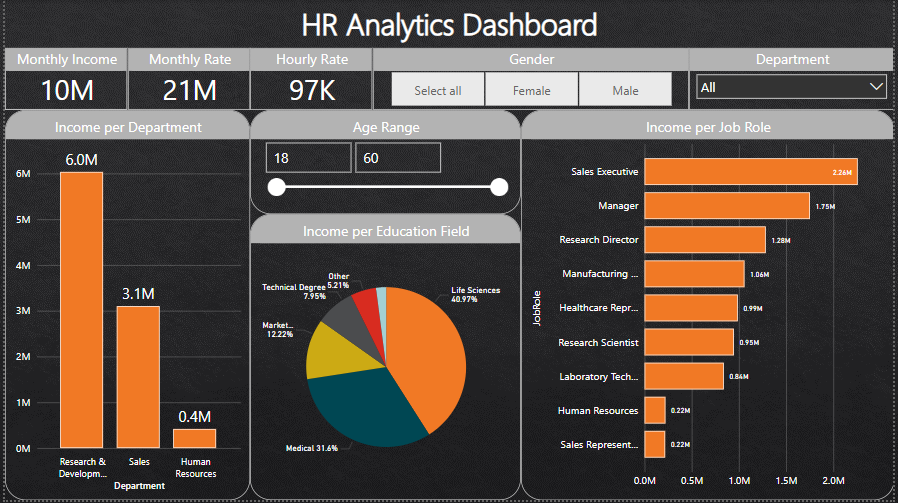

The dashboard page shown, as its layout file describes it:
{"tool":"powerbi","page":{"name":"HR Analytics Data","canvas":[1280,720],"ordinal":0},"visuals":[{"type":"textbox","box":[0,0,1280.8,69.6],"z":0},{"type":"card","title":"Monthly Income","fields":{"Values":["Sum(HR Analytics Data.MonthlyIncome)"]},"box":[0,69.6,176.5,89.1],"z":1000},{"type":"card","title":"Hourly Rate","fields":{"Values":["Sum(HR Analytics Data.HourlyRate)"]},"box":[353,69.6,176.5,89.1],"z":2000},{"type":"card","title":"Monthly Rate","fields":{"Values":["Sum(HR Analytics Data.MonthlyRate)"]},"box":[176.5,69.6,176.5,89.1],"z":3000},{"type":"columnChart","title":"Income per Department","fields":{"Category":["HR Analytics Data.Department"],"Y":["Sum(HR Analytics Data.MonthlyIncome)"]},"box":[0,158.7,353,561.9],"z":4000},{"type":"slicer","title":"Department","fields":{"Values":["HR Analytics Data.Department"]},"box":[984.5,69.6,296.3,89.1],"z":5000},{"type":"pieChart","title":"Income per Education Field","fields":{"Category":["HR Analytics Data.EducationField"],"Y":["Sum(HR Analytics Data.MonthlyIncome)"]},"box":[352.8,308.2,390.2,411.8],"z":6000},{"type":"slicer","title":"Gender","fields":{"Values":["HR Analytics Data.Gender"]},"box":[529.5,69.6,455,89.1],"z":7000},{"type":"slicer","title":"Age Range","fields":{"Values":["HR Analytics Data.Age"]},"box":[352.8,158.4,390.2,149.8],"z":8000},{"type":"barChart","title":"Income per Job Role","fields":{"Category":["HR Analytics Data.JobRole"],"Y":["Sum(HR Analytics Data.MonthlyIncome)"]},"box":[743.2,158.7,537.6,561.9],"z":9000}]}

Visuals, with their boxes in screenshot pixels (x1, y1, x2, y2), scaled from the page's 1280x720 canvas onto the 898x503 screenshot:
textbox: [0,0,897,49]
"Monthly Income" card: [0,49,124,111]
"Hourly Rate" card: [248,49,371,111]
"Monthly Rate" card: [124,49,248,111]
"Income per Department" columnChart: [0,111,248,502]
"Department" slicer: [691,49,897,111]
"Income per Education Field" pieChart: [248,215,521,502]
"Gender" slicer: [371,49,691,111]
"Age Range" slicer: [248,111,521,215]
"Income per Job Role" barChart: [521,111,897,502]
